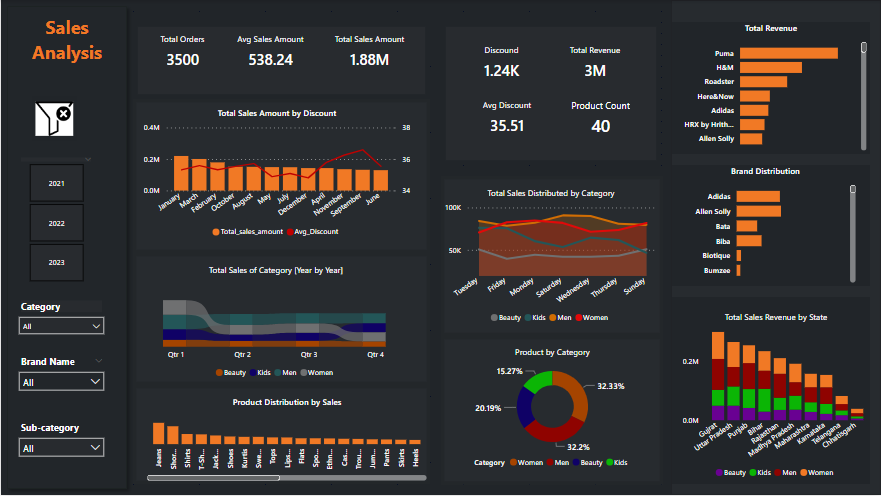

The page's visual inventory and layout, read from the dashboard file:
{"tool":"powerbi","page":{"name":"Main","canvas":[1280,720],"ordinal":0},"visuals":[{"type":"shape","box":[192,32,432,112],"z":0},{"type":"shape","box":[975.5,0,304.9,719.4],"z":1000},{"type":"shape","box":[975.1,0,304.9,719.4],"z":2000},{"type":"shape","box":[975.1,0.6,304.9,719.4],"z":3000},{"type":"shape","box":[975.1,0.6,304.9,719.4],"z":4000},{"type":"shape","box":[975.5,0,304.9,719.4],"z":5000},{"type":"shape","box":[0,0,192,720],"z":6000},{"type":"shape","box":[975.1,0.6,304.9,719.4],"z":7000},{"type":"shape","box":[975.1,0.6,304.9,719.4],"z":8000},{"type":"shape","box":[975.1,0.6,304.9,719.4],"z":9000},{"type":"shape","box":[975.1,0.6,304.9,719.4],"z":10000},{"type":"shape","box":[975.1,0.6,304.9,719.4],"z":11000},{"type":"shape","box":[975.1,0.6,304.9,719.4],"z":12000},{"type":"shape","box":[975.1,0.6,304.9,719.4],"z":13000},{"type":"shape","box":[975.1,0.6,304.9,719.4],"z":14000},{"type":"shape","box":[975.1,0.6,304.9,719.4],"z":15000},{"type":"shape","box":[975.1,0.6,304.9,719.4],"z":16000},{"type":"shape","box":[975.1,0.6,304.9,719.4],"z":17000},{"type":"shape","box":[975.1,0.6,304.9,719.4],"z":18000},{"type":"shape","box":[975.1,0.6,304.9,719.4],"z":19000},{"type":"shape","box":[975.1,0.6,304.9,719.4],"z":20000},{"type":"shape","box":[975.1,0.6,304.9,719.4],"z":21000},{"type":"shape","box":[975.1,0.6,304.9,719.4],"z":22000},{"type":"shape","box":[975.1,0.6,304.9,719.4],"z":23000},{"type":"shape","box":[975.1,0.6,304.9,719.4],"z":24000},{"type":"shape","box":[975.1,0.6,304.9,719.4],"z":25000},{"type":"shape","box":[975.1,0.6,304.9,719.4],"z":26000},{"type":"shape","box":[975.1,0.6,304.9,719.4],"z":27000},{"type":"shape","box":[975.1,0.6,304.9,719.4],"z":28000},{"type":"shape","box":[975.1,0.6,304.9,719.4],"z":29000},{"type":"shape","box":[975.1,0.6,304.9,719.4],"z":30000},{"type":"shape","box":[975.1,0.6,304.9,719.4],"z":31000},{"type":"shape","box":[975.1,0.6,304.9,719.4],"z":32000},{"type":"shape","box":[975.1,0.6,304.9,719.4],"z":33000},{"type":"shape","box":[975.1,0.6,304.9,719.4],"z":34000},{"type":"shape","box":[975.1,0.6,304.9,719.4],"z":35000},{"type":"shape","box":[975.1,0.6,304.9,719.4],"z":36000},{"type":"shape","box":[975.1,0.6,304.9,719.4],"z":37000},{"type":"shape","box":[975.1,0.6,304.9,719.4],"z":38000},{"type":"shape","box":[975.1,0.6,304.9,719.4],"z":39000},{"type":"shape","box":[975.1,0.6,304.9,719.4],"z":40000},{"type":"shape","box":[975.1,0.6,304.9,719.4],"z":41000},{"type":"shape","box":[975.1,0.6,304.9,719.4],"z":42000},{"type":"shape","box":[975.1,0.6,304.9,719.4],"z":43000},{"type":"shape","box":[975.1,0.6,304.9,719.4],"z":44000},{"type":"shape","box":[975.1,0.6,304.9,719.4],"z":45000},{"type":"shape","box":[975.1,0.6,304.9,719.4],"z":46000},{"type":"shape","box":[975.1,0.6,304.9,719.4],"z":47000},{"type":"shape","box":[975.1,0.6,304.9,719.4],"z":48000},{"type":"shape","box":[975.1,0.6,304.9,719.4],"z":49000},{"type":"shape","box":[975.1,0.6,304.9,719.4],"z":50000},{"type":"shape","box":[975.1,0.6,304.9,719.4],"z":51000},{"type":"shape","box":[975.1,0.6,304.9,719.4],"z":52000},{"type":"shape","box":[975.1,0.6,304.9,719.4],"z":53000},{"type":"shape","box":[975.1,0.6,304.9,719.4],"z":54000},{"type":"shape","box":[975.1,0.6,304.9,719.4],"z":55000},{"type":"shape","box":[975.1,0.6,304.9,719.4],"z":56000},{"type":"shape","box":[975.1,0.6,304.9,719.4],"z":57000},{"type":"shape","box":[975.1,0.6,304.9,719.4],"z":58000},{"type":"shape","box":[976,432,288,272],"z":59000},{"type":"shape","box":[640,32,320,208],"z":60000},{"type":"shape","box":[976,32,288,192],"z":61000},{"type":"shape","box":[192,560,432,144],"z":62000},{"type":"shape","box":[639.7,488.7,323,216],"z":63000},{"type":"shape","box":[192,144,432,224],"z":64000},{"type":"shape","box":[639.7,255.9,323,232.8],"z":65000},{"type":"shape","box":[192,368,432,192],"z":66000},{"type":"textbox","box":[0,16,192,96],"z":67000},{"type":"slicer","title":"Category","fields":{"Values":["Date_table.Year"]},"box":[16,224,128,192],"z":68000},{"type":"card","title":"Total Orders","fields":{"Values":["Measures_Table.Total_orders"]},"box":[208,48,112,64],"z":69000},{"type":"card","title":"Avg Sales Amount","fields":{"Values":["Measures_Table.Avg_sales_amount"]},"box":[320,48,144,64],"z":70000},{"type":"card","title":"Total Sales Amount","fields":{"Values":["Measures_Table.Total_sales_amount"]},"box":[464,48,144,64],"z":71000},{"type":"barChart","title":"Total Revenue","fields":{"Y":["Sum(fact_orders.Sales Amount)"],"Category":["dim_products.Brand Name"]},"box":[976,32,288,192],"z":72000},{"type":"columnChart","title":"Total Sales Revenue by State","fields":{"Category":["dim_customers.State"],"Y":["Sum(fact_orders.Sales Amount)"],"Series":["dim_products.Category"]},"box":[986.3,452.6,282.3,252.5],"z":73000},{"type":"donutChart","title":"Product by Category","fields":{"Y":["CountNonNull(dim_products.Product ID)"],"Category":["dim_products.Category"]},"box":[658.6,503.4,286.3,186.7],"z":74000},{"type":"lineStackedColumnComboChart","title":"Total Sales Amount by Discount","fields":{"Category":["Date_table.Month_NAME"],"Y":["Measures_Table.Total_sales_amount"],"Y2":["Measures_Table.Avg_Discount"]},"box":[202.4,155.2,398.5,199.2],"z":75000},{"type":"ribbonChart","title":"Total Sales of Category [Year by Year]","fields":{"Category":["Date_table.Date.Variation.Date Hierarchy.Year","Date_table.Date.Variation.Date Hierarchy.Quarter","Date_table.Date.Variation.Date Hierarchy.Month","Date_table.Date.Variation.Date Hierarchy.Day"],"Y":["Measures_Table.Total_sales_amount"],"Series":["dim_products.Category"]},"box":[192,384,416,176],"z":76000},{"type":"columnChart","title":"Product Distribution by Sales","fields":{"Category":["dim_products.Product Name"],"Y":["CountNonNull(dim_products.Product Name)"]},"box":[208,576,416,128],"z":77000},{"type":"areaChart","title":"Total Sales Distributed by Category","fields":{"Category":["Date_table.Day of Week"],"Y":["Measures_Table.Total_sales_amount"],"Series":["dim_products.Category"]},"box":[640,272,320,208],"z":78000},{"type":"slicer","title":"Brand Name","fields":{"Values":["dim_products.Brand Name"]},"box":[16,512,144,80],"z":79000},{"type":"slicer","title":"Category","fields":{"Values":["dim_products.Category"]},"box":[16,432,144,64],"z":80000},{"type":"slicer","title":"Sub-Category","fields":{"Values":["dim_products.Sub-category"]},"box":[16,608,144,80],"z":81000},{"type":"shape","box":[976,240,288,176],"z":82000},{"type":"image","box":[45.1,139.5,65,65],"z":83000},{"type":"barChart","title":"Brand Distribution","fields":{"Category":["dim_products.Brand Name"],"Y":["CountNonNull(dim_products.Brand Name)"]},"box":[976,240,272,176],"z":84000},{"type":"card","title":"Avg Discount","fields":{"Values":["Measures_Table.Avg_Discount"]},"box":[672,144,128,64],"z":85000},{"type":"card","title":"Total Revenue","fields":{"Values":["Measures_Table.Sum_original_price"]},"box":[800,64,128,64],"z":86000},{"type":"card","title":"Product Count","fields":{"Values":["Count(dim_products.Product Name)"]},"box":[816,144,112,64],"z":87000},{"type":"card","title":"Discound","fields":{"Values":["Sum(fact_orders.Discount%)"]},"box":[656,64,144,64],"z":88000}]}

Visuals, with their boxes in screenshot pixels (x1, y1, x2, y2), scaled from the page's 1280x720 canvas onto the 881x496 screenshot:
shape: 132, 22, 429, 99
shape: 671, 0, 880, 495
shape: 671, 0, 880, 495
shape: 671, 0, 880, 495
shape: 671, 0, 880, 495
shape: 671, 0, 880, 495
shape: 0, 0, 132, 495
shape: 671, 0, 880, 495
shape: 671, 0, 880, 495
shape: 671, 0, 880, 495
shape: 671, 0, 880, 495
shape: 671, 0, 880, 495
shape: 671, 0, 880, 495
shape: 671, 0, 880, 495
shape: 671, 0, 880, 495
shape: 671, 0, 880, 495
shape: 671, 0, 880, 495
shape: 671, 0, 880, 495
shape: 671, 0, 880, 495
shape: 671, 0, 880, 495
shape: 671, 0, 880, 495
shape: 671, 0, 880, 495
shape: 671, 0, 880, 495
shape: 671, 0, 880, 495
shape: 671, 0, 880, 495
shape: 671, 0, 880, 495
shape: 671, 0, 880, 495
shape: 671, 0, 880, 495
shape: 671, 0, 880, 495
shape: 671, 0, 880, 495
shape: 671, 0, 880, 495
shape: 671, 0, 880, 495
shape: 671, 0, 880, 495
shape: 671, 0, 880, 495
shape: 671, 0, 880, 495
shape: 671, 0, 880, 495
shape: 671, 0, 880, 495
shape: 671, 0, 880, 495
shape: 671, 0, 880, 495
shape: 671, 0, 880, 495
shape: 671, 0, 880, 495
shape: 671, 0, 880, 495
shape: 671, 0, 880, 495
shape: 671, 0, 880, 495
shape: 671, 0, 880, 495
shape: 671, 0, 880, 495
shape: 671, 0, 880, 495
shape: 671, 0, 880, 495
shape: 671, 0, 880, 495
shape: 671, 0, 880, 495
shape: 671, 0, 880, 495
shape: 671, 0, 880, 495
shape: 671, 0, 880, 495
shape: 671, 0, 880, 495
shape: 671, 0, 880, 495
shape: 671, 0, 880, 495
shape: 671, 0, 880, 495
shape: 671, 0, 880, 495
shape: 671, 0, 880, 495
shape: 672, 298, 870, 485
shape: 440, 22, 661, 165
shape: 672, 22, 870, 154
shape: 132, 386, 429, 485
shape: 440, 337, 663, 485
shape: 132, 99, 429, 254
shape: 440, 176, 663, 337
shape: 132, 254, 429, 386
textbox: 0, 11, 132, 77
"Category" slicer: 11, 154, 99, 287
"Total Orders" card: 143, 33, 220, 77
"Avg Sales Amount" card: 220, 33, 319, 77
"Total Sales Amount" card: 319, 33, 418, 77
"Total Revenue" barChart: 672, 22, 870, 154
"Total Sales Revenue by State" columnChart: 679, 312, 873, 486
"Product by Category" donutChart: 453, 347, 650, 475
"Total Sales Amount by Discount" lineStackedColumnComboChart: 139, 107, 414, 244
"Total Sales of Category [Year by Year]" ribbonChart: 132, 265, 418, 386
"Product Distribution by Sales" columnChart: 143, 397, 429, 485
"Total Sales Distributed by Category" areaChart: 440, 187, 661, 331
"Brand Name" slicer: 11, 353, 110, 408
"Category" slicer: 11, 298, 110, 342
"Sub-Category" slicer: 11, 419, 110, 474
shape: 672, 165, 870, 287
image: 31, 96, 76, 141
"Brand Distribution" barChart: 672, 165, 859, 287
"Avg Discount" card: 463, 99, 551, 143
"Total Revenue" card: 551, 44, 639, 88
"Product Count" card: 562, 99, 639, 143
"Discound" card: 452, 44, 551, 88
